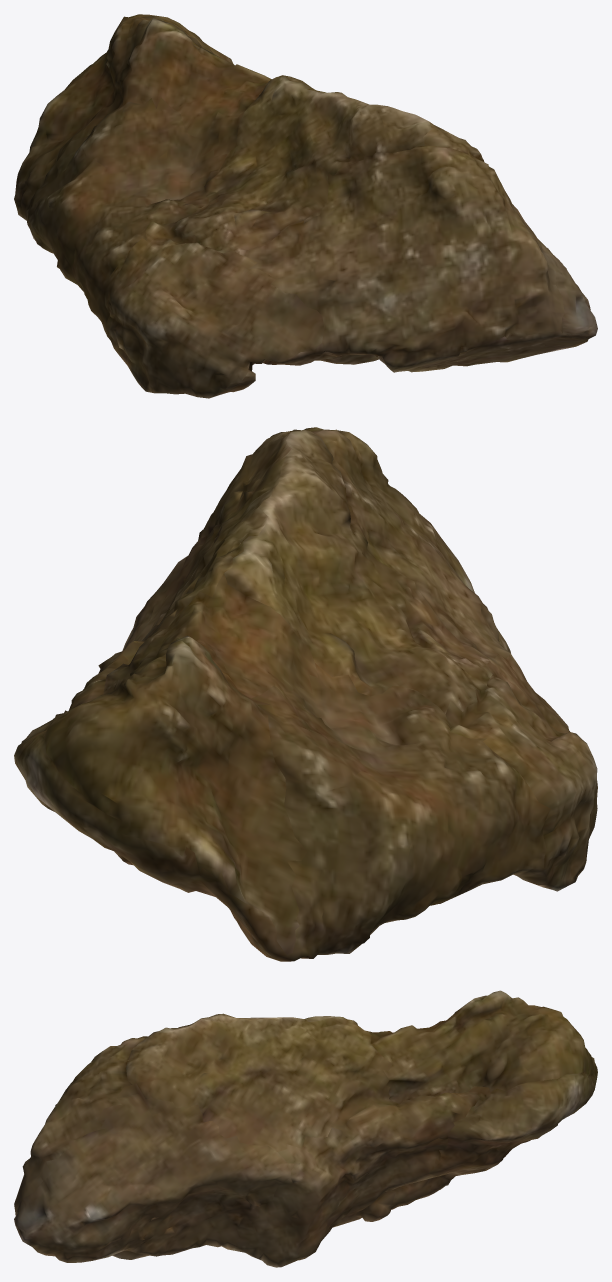
The model's file is rock_moss_set_01.glb.
3 views of the same model, one above another, from view 1: azimuth 30°, elevation 25°; view 2: azimuth 150°, elevation 25°; view 3: azimuth 270°, elevation 25° (orthographic). The views are drawn at different scales.
Parts seen in each view (by area): view 1: rock_moss_set_01_rock01; view 2: rock_moss_set_01_rock01; view 3: rock_moss_set_01_rock01.
Boxes of the visible parts, x1,y1,x2,y2 form: rock_moss_set_01_rock01: (14,14,597,398); rock_moss_set_01_rock01: (14,427,597,961); rock_moss_set_01_rock01: (14,990,597,1267).
Bounding box in the file's own units: 2.24 × 1.47 × 3.37.
1 material, 1 textured.
